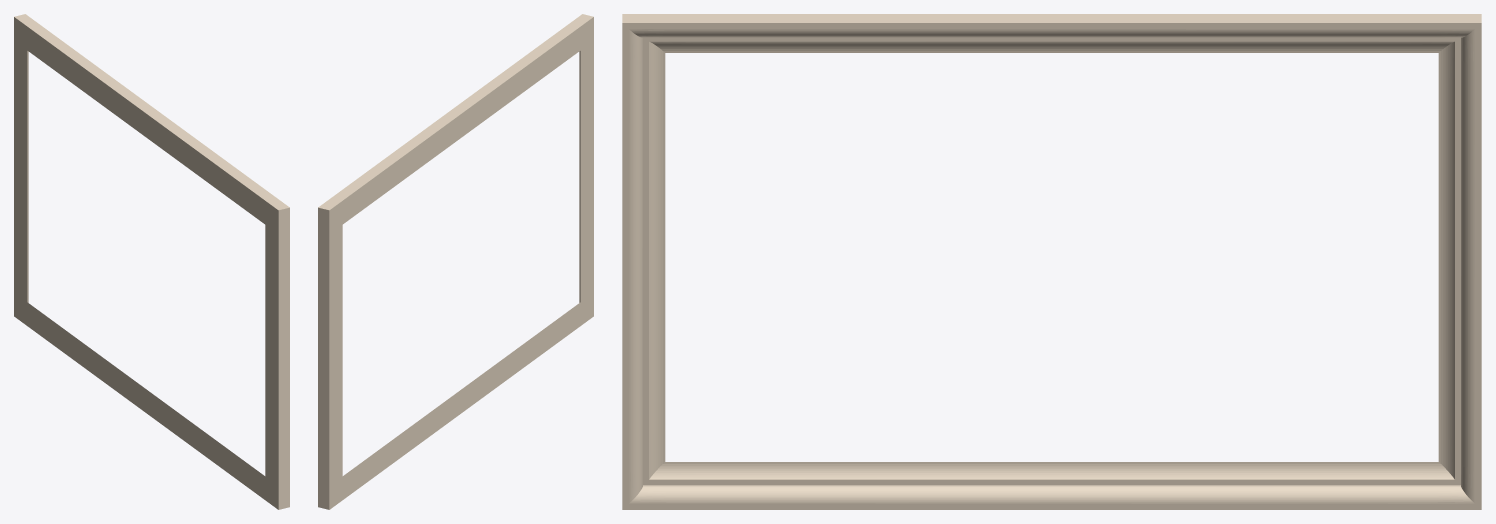
File: Painting Frame.fbx
3 renders of one model, left to right at view 1: azimuth 30°, elevation 25°; view 2: azimuth 150°, elevation 25°; view 3: azimuth 270°, elevation 25°, orthographic. The views are drawn at different scales.
Parts seen in each view (by area): view 1: Painting Frame; view 2: Painting Frame; view 3: Painting Frame.
Boxes of the visible parts, x1=… form: Painting Frame: x1=14, y1=14, x2=289, y2=509; Painting Frame: x1=318, y1=14, x2=593, y2=509; Painting Frame: x1=622, y1=14, x2=1481, y2=509.
Bounding box in the file's own units: 0.1 × 2.5 × 4.
